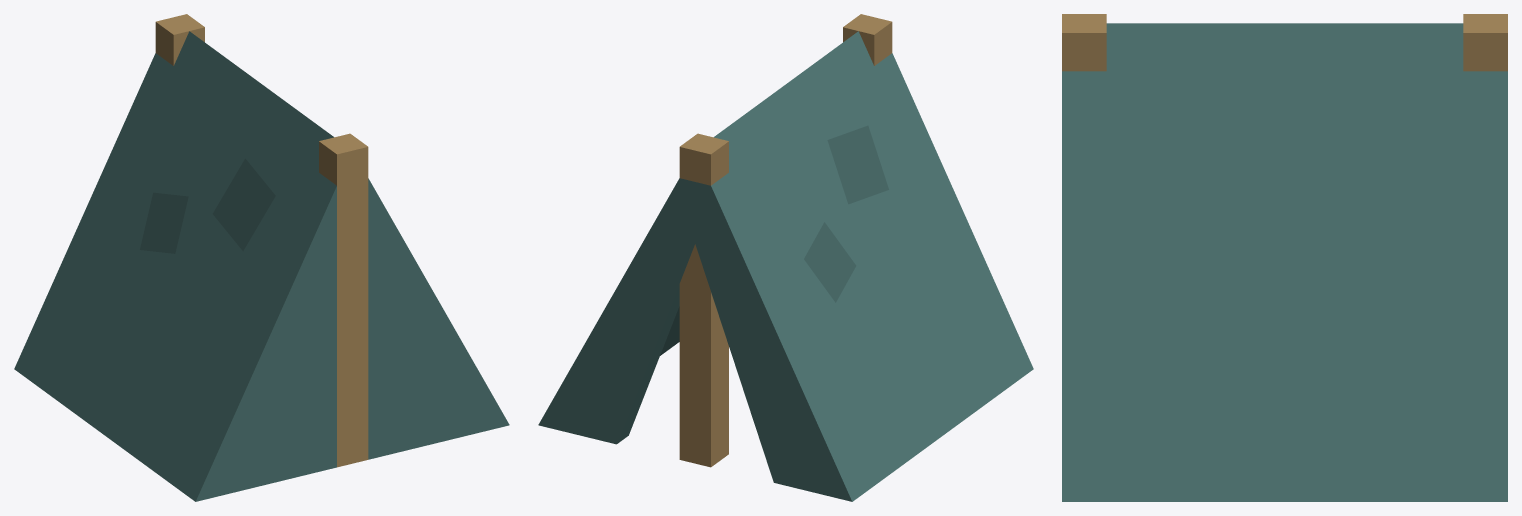
File: Tent_Poles_01.fbx
The picture shows the model from 3 angles, left to right: view 1: azimuth 30°, elevation 25°; view 2: azimuth 150°, elevation 25°; view 3: azimuth 270°, elevation 25°; orthographic projection. The views are drawn at different scales.
Visible parts, largest first — view 1: Mesh1_Tent_Poles Model; view 2: Mesh1_Tent_Poles Model; view 3: Mesh1_Tent_Poles Model.
Boxes of the visible parts, <box> form: Mesh1_Tent_Poles Model: <box>14,14,509,501</box>; Mesh1_Tent_Poles Model: <box>538,14,1033,501</box>; Mesh1_Tent_Poles Model: <box>1062,14,1507,501</box>.
Bounding box in the file's own units: 3 × 2.86 × 3.
